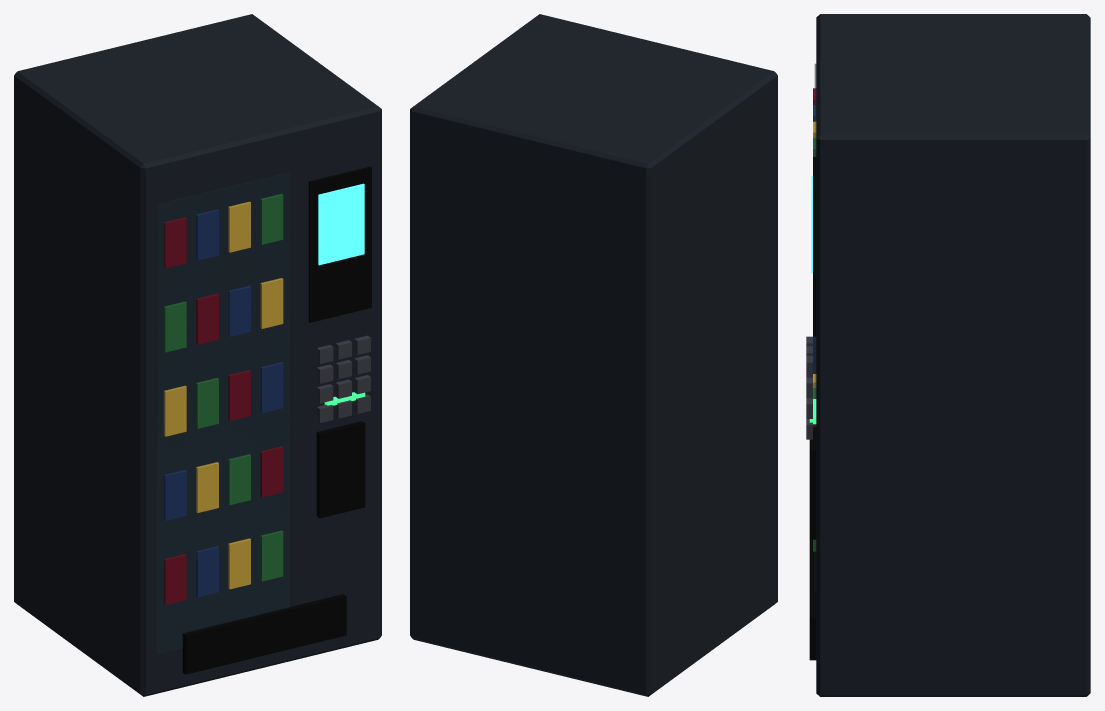
The model's file is vending_machine.glb.
The picture shows the model from 3 angles, left to right: view 1: azimuth 30°, elevation 25°; view 2: azimuth 150°, elevation 25°; view 3: azimuth 270°, elevation 25°; orthographic projection. The views are drawn at different scales.
Parts seen in each view (by area): view 1: vending_machine; view 2: vending_machine; view 3: vending_machine.
Part boxes in pixels (x1,y1,x2,y2): vending_machine: (14,14,381,696); vending_machine: (410,14,777,696); vending_machine: (806,14,1090,696).
Bounding box in the file's own units: 0.9 × 1.9 × 0.87.
